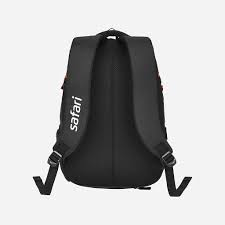backpack: (32, 27, 191, 197)
